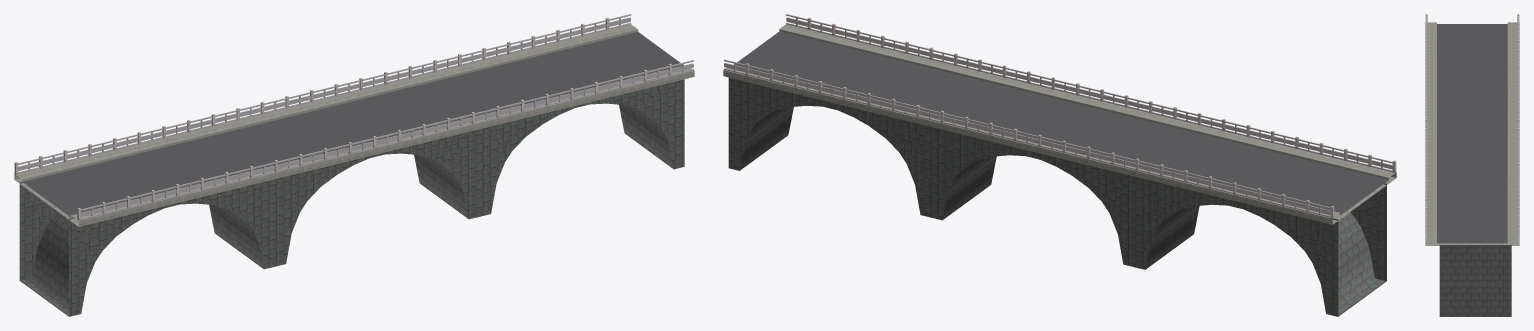
Rendered from qiao3.FBX.
3 views of the same model, side by side, from view 1: azimuth 30°, elevation 25°; view 2: azimuth 150°, elevation 25°; view 3: azimuth 270°, elevation 25° (orthographic). The views are drawn at different scales.
Parts seen in each view (by area): view 1: qiao3; view 2: qiao3; view 3: qiao3.
Boxes of the visible parts, bbox=[...] form: qiao3: bbox=[14, 14, 694, 316]; qiao3: bbox=[723, 14, 1396, 316]; qiao3: bbox=[1425, 14, 1519, 316].
Bounding box in the file's own units: 7243 × 1288 × 1316.
Materials: 5 (5 with a texture image).
